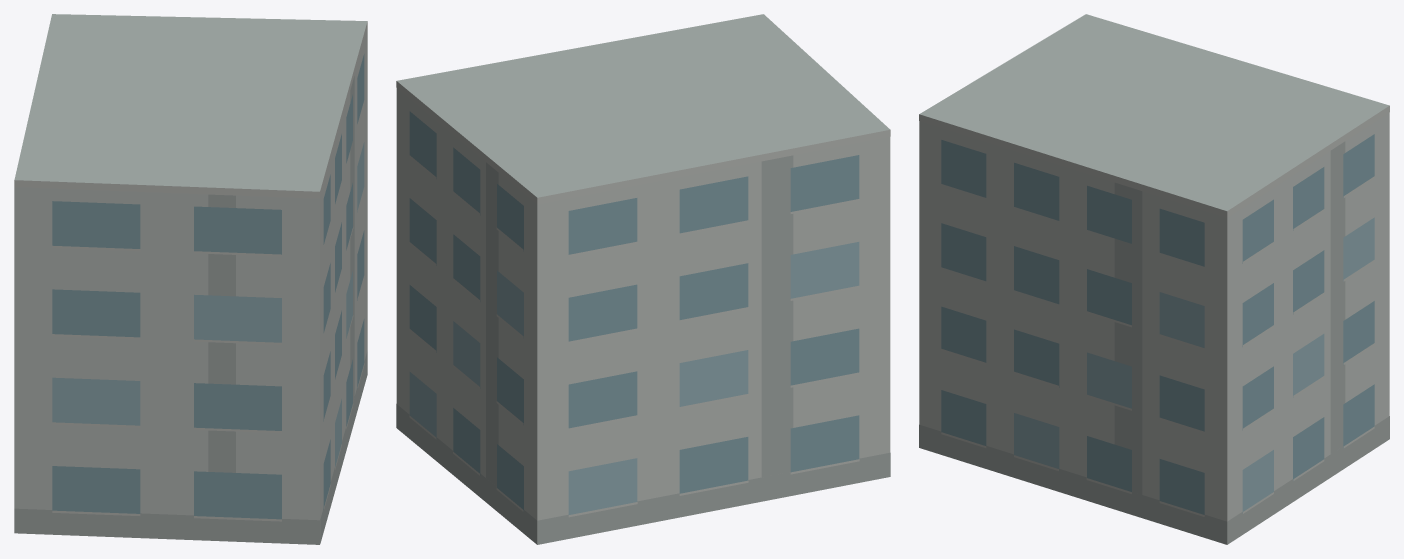
Rendered from survey-upis-32817743.glb.
3 renders of one model, left to right at view 1: azimuth 30°, elevation 25°; view 2: azimuth 150°, elevation 25°; view 3: azimuth 270°, elevation 25°, orthographic. The views are drawn at different scales.
Visible parts, largest first — view 1: survey-upis-32817743.tmp; view 2: survey-upis-32817743.tmp; view 3: survey-upis-32817743.tmp.
Boxes of the visible parts, x1=… form: survey-upis-32817743.tmp: x1=14, y1=14, x2=367, y2=544; survey-upis-32817743.tmp: x1=396, y1=14, x2=890, y2=544; survey-upis-32817743.tmp: x1=919, y1=14, x2=1389, y2=544.
Bounding box in the file's own units: 15.48 × 12.2 × 15.61.
